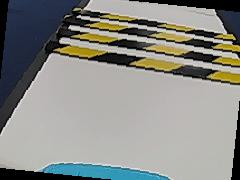bump: (45, 7, 238, 85)
